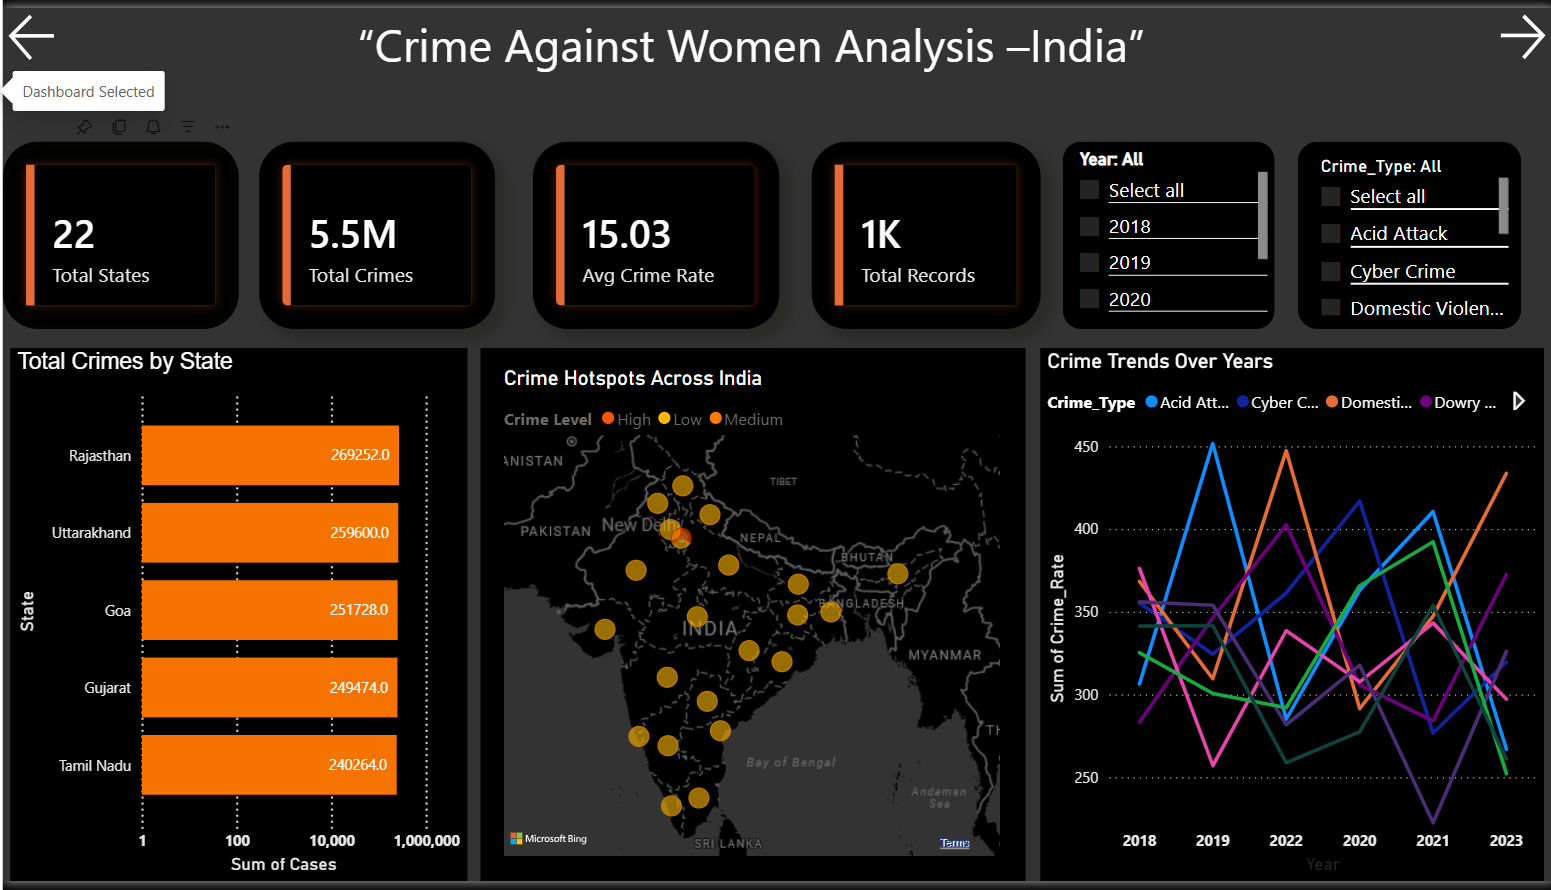

What the dashboard file says about the page in this screenshot:
{"tool":"powerbi","page":{"name":"Dashboard","canvas":[1280,720],"ordinal":1},"visuals":[{"type":"map","title":"Crime Hotspots Across India","fields":{"Category":["crime_women_advanced_15cols.State"],"Series":["crime_women_advanced_15cols.Crime Level"]},"box":[394.3,280,448.6,440],"z":0},{"type":"barChart","title":"Total Crimes by State","fields":{"Category":["crime_women_advanced_15cols.State"],"Y":["Sum(crime_women_advanced_15cols.Cases)"]},"box":[5.7,280,377.1,440],"z":1000},{"type":"cardVisual","fields":{"Data":["crime_women_advanced_15cols.Total Crimes"]},"box":[211.4,110,194.3,154.3],"z":2000},{"type":"cardVisual","fields":{"Data":["crime_women_advanced_15cols.Avg Crime Rate"]},"box":[437.1,110,202.9,154.3],"z":3000},{"type":"cardVisual","fields":{"Data":["crime_women_advanced_15cols.Total States"]},"box":[0,110,194.3,154.3],"z":4000},{"type":"cardVisual","fields":{"Data":["crime_women_advanced_15cols.Total Records"]},"box":[667.1,110,188.6,154.3],"z":5000},{"type":"lineChart","title":"Crime Trends Over Years","fields":{"Category":["crime_women_advanced_15cols.Year"],"Series":["crime_women_advanced_15cols.Crime_Type"],"Y":["Sum(crime_women_advanced_15cols.Crime_Rate)"]},"box":[856.2,280,415,440],"z":6000},{"type":"slicer","fields":{"Values":["crime_women_advanced_15cols.Year"]},"box":[874.3,110,174.3,154.3],"z":7000},{"type":"slicer","fields":{"Values":["crime_women_advanced_15cols.Crime_Type"]},"box":[1068.6,110,184.3,154.3],"z":8000},{"type":"textbox","box":[287.9,0,703.3,97],"z":9000},{"type":"actionButton","box":[1228.9,0,51.1,47.8],"z":10000},{"type":"actionButton","box":[0,0,59.1,48.5],"z":11000}]}

Visuals, with their boxes on the page's 1280x720 design canvas (x1, y1, x2, y2). These are canvas units, not pixel positions in the 1551x890 screenshot, which may show the page scaled, cropped or inside an application window:
"Crime Hotspots Across India" map: rect(394, 280, 843, 720)
"Total Crimes by State" barChart: rect(6, 280, 383, 720)
cardVisual - crime_women_advanced_15cols.Total Crimes: rect(211, 110, 406, 264)
cardVisual - crime_women_advanced_15cols.Avg Crime Rate: rect(437, 110, 640, 264)
cardVisual - crime_women_advanced_15cols.Total States: rect(0, 110, 194, 264)
cardVisual - crime_women_advanced_15cols.Total Records: rect(667, 110, 856, 264)
"Crime Trends Over Years" lineChart: rect(856, 280, 1271, 720)
slicer - crime_women_advanced_15cols.Year: rect(874, 110, 1049, 264)
slicer - crime_women_advanced_15cols.Crime_Type: rect(1069, 110, 1253, 264)
textbox: rect(288, 0, 991, 97)
actionButton: rect(1229, 0, 1280, 48)
actionButton: rect(0, 0, 59, 48)
